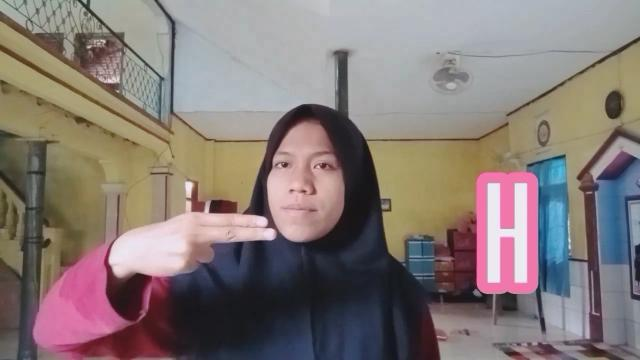H: (119, 211, 278, 277)
